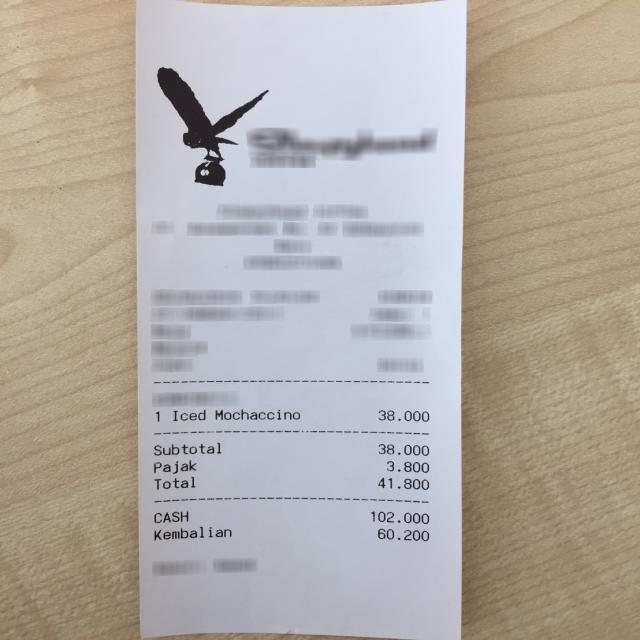kertas: (136, 0, 467, 640)
